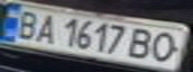1: (54, 16, 81, 47), (90, 20, 109, 53)
6: (72, 17, 96, 51)
7: (106, 21, 130, 56)
A: (30, 11, 60, 44)
B: (124, 26, 160, 61), (9, 8, 42, 39)
O: (145, 29, 187, 64)
